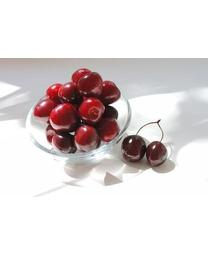cherry: (49, 103, 80, 132), (121, 135, 146, 161), (57, 83, 82, 108), (77, 73, 102, 97), (96, 81, 121, 105), (74, 125, 99, 149), (93, 118, 119, 141), (78, 99, 104, 121), (53, 130, 76, 153), (147, 141, 167, 166), (33, 99, 57, 117), (99, 103, 118, 120)
